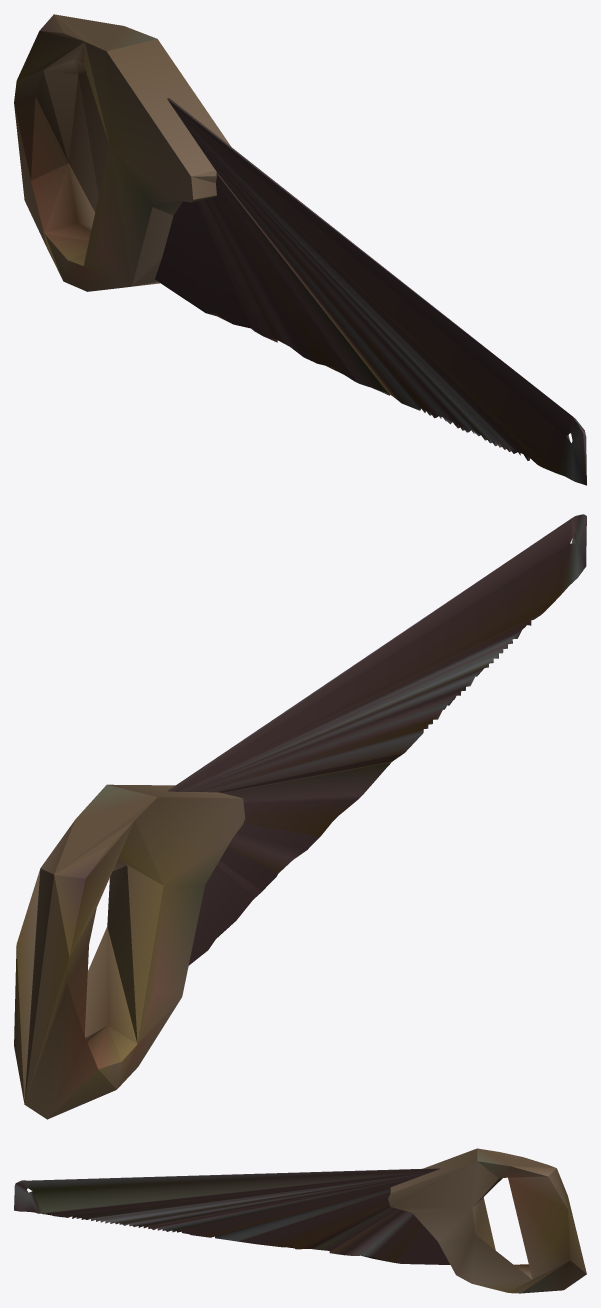
File: handsaw_wood.glb
The picture shows the model from 3 angles, top to bottom: view 1: azimuth 30°, elevation 25°; view 2: azimuth 150°, elevation 25°; view 3: azimuth 270°, elevation 25°; orthographic projection. The views are drawn at different scales.
Visible parts, largest first — view 1: handsaw_wood; view 2: handsaw_wood; view 3: handsaw_wood.
Boxes of the visible parts, x1,y1,x2,y2 form: handsaw_wood: (14,14,586,485); handsaw_wood: (14,514,586,1119); handsaw_wood: (14,1148,586,1293).
Bounding box in the file's own units: 0.0166 × 0.0783 × 0.3.
